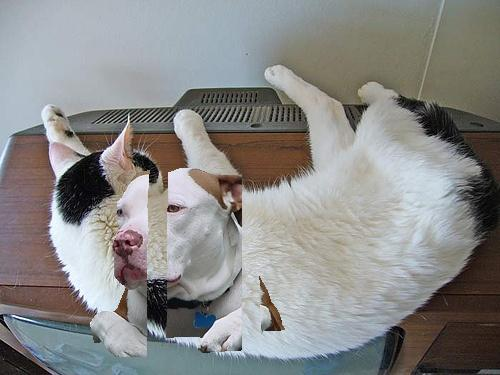tampered: (91, 169, 285, 357)
